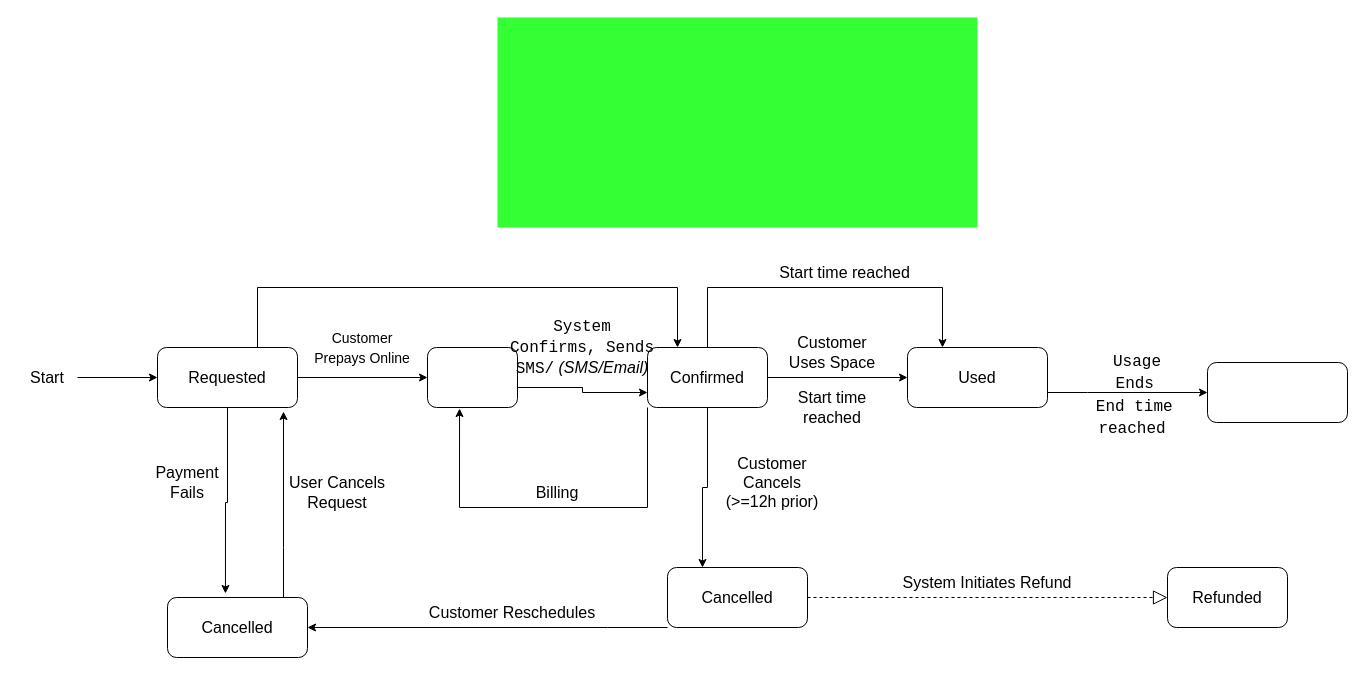
Some shapes in this 1365 by 675 pixel diagram are drawn without their labels. Here are the shapes that lost their labels. From the top down, the centre of each, then its label:
At [737,122]: "STATE DIAGRAM (Finite State Machine)".
At [472,377]: "Paid".
At [1277,392]: "Archived".
